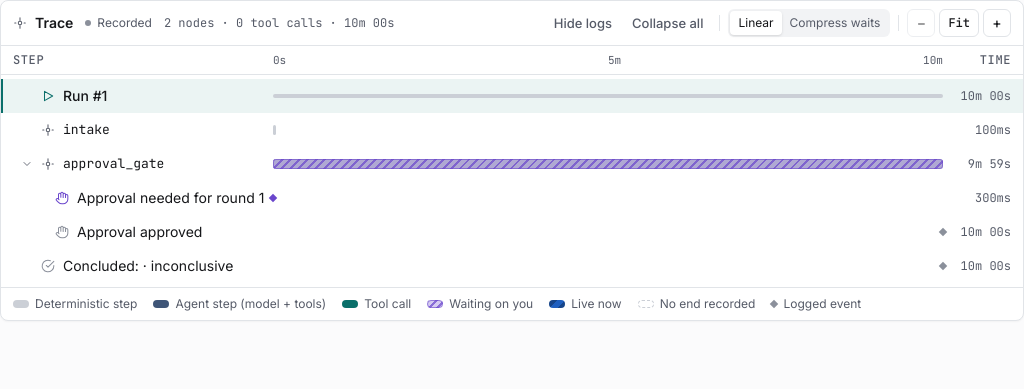
Scenario: a long approval wait offers a labelled compressed time scale; linear stays the default
Click the button "Compress waits" at (835, 23), box x1=782 y1=11 x2=888 y2=35
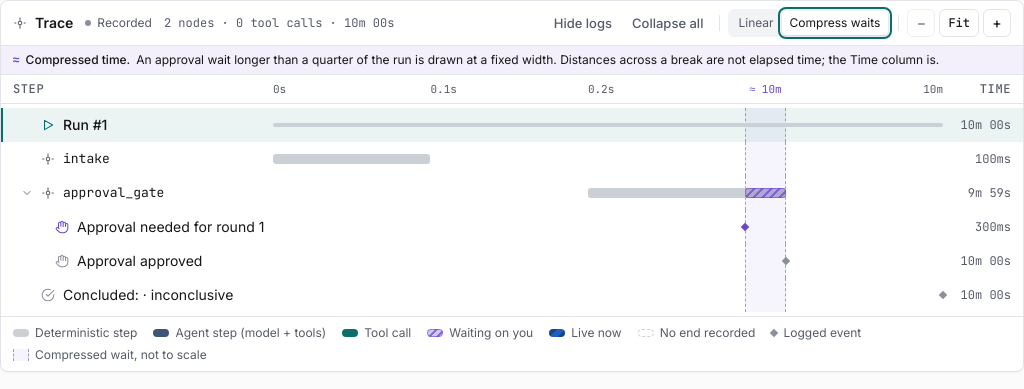
Now the list item "Compressed wait, not to scale" is shown, box x1=13 y1=347 x2=207 y2=363
